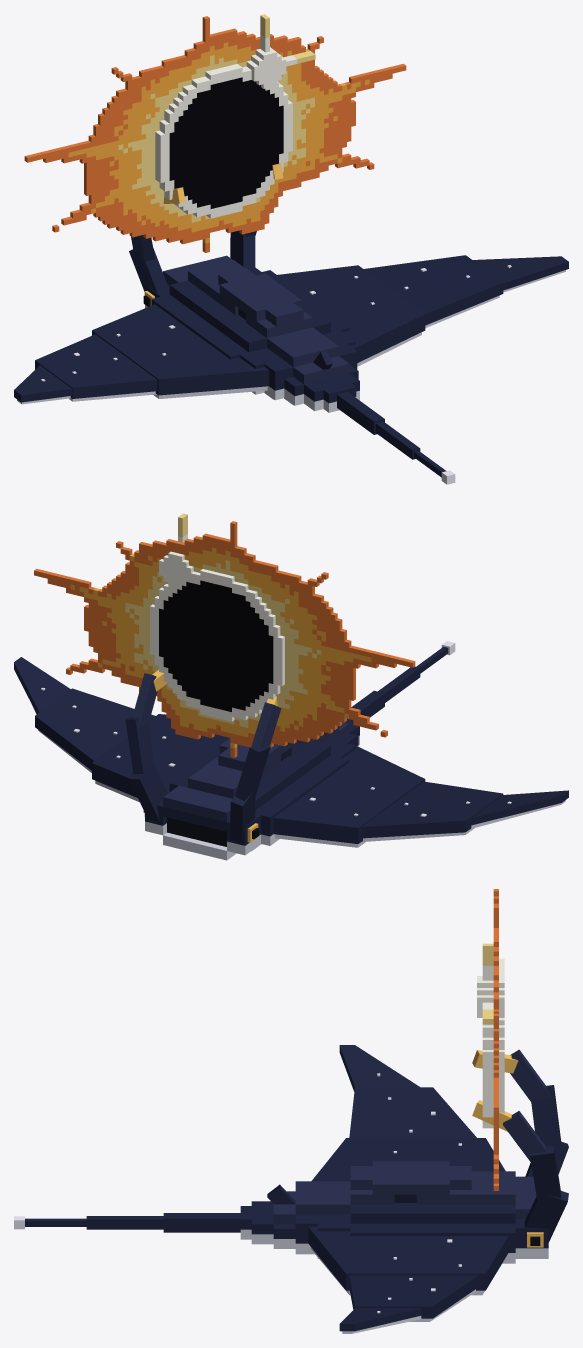
Rendered from Totality.obj.
3 views of the same model, one above another, from view 1: azimuth 30°, elevation 25°; view 2: azimuth 150°, elevation 25°; view 3: azimuth 270°, elevation 25° (orthographic). The views are drawn at different scales.
Visible parts, largest first — view 1: Corona, Body, Eclipse, WingL1, WingR1, WingR2, WingL2, WingR3, WingL3, Tail1, Tail2; view 2: Corona, Body, Eclipse, WingL1, WingL2, WingR2, WingR1, WingL3, WingR3, Tail2, Tail1; view 3: Body, WingR1, WingL2, WingL1, WingR2, Eclipse, WingL3, Corona, Tail1, WingR3, Tail2, Tail3.
Part boxes in pixels (bbox=[...]): Corona: bbox=[24, 16, 406, 252]; Body: bbox=[129, 163, 359, 412]; Eclipse: bbox=[155, 14, 315, 218]; WingL1: bbox=[92, 304, 268, 398]; WingR1: bbox=[277, 265, 425, 366]; WingR2: bbox=[364, 255, 503, 327]; WingL2: bbox=[35, 334, 157, 401]; WingR3: bbox=[473, 256, 568, 292]; WingL3: bbox=[14, 365, 71, 404]; Tail1: bbox=[337, 392, 384, 434]; Tail2: bbox=[375, 421, 420, 459]; Corona: bbox=[34, 521, 415, 757]; Body: bbox=[125, 670, 359, 860]; Eclipse: bbox=[133, 513, 284, 721]; WingL1: bbox=[273, 743, 425, 847]; WingL2: bbox=[361, 781, 503, 841]; WingR2: bbox=[35, 688, 155, 772]; WingR1: bbox=[92, 714, 222, 802]; WingL3: bbox=[471, 790, 568, 828]; WingR3: bbox=[14, 657, 70, 714]; Tail2: bbox=[378, 666, 420, 702]; Tail1: bbox=[351, 690, 384, 717]; Body: bbox=[240, 1049, 568, 1263]; WingR1: bbox=[308, 1226, 508, 1295]; WingL2: bbox=[349, 1087, 476, 1137]; WingL1: bbox=[311, 1138, 505, 1181]; WingR2: bbox=[349, 1275, 478, 1321]; Eclipse: bbox=[477, 943, 504, 1128]; WingL3: bbox=[339, 1045, 419, 1091]; Corona: bbox=[493, 889, 498, 1190]; Tail1: bbox=[163, 1213, 240, 1232]; WingR3: bbox=[339, 1308, 422, 1333]; Tail2: bbox=[86, 1216, 163, 1229]; Tail3: bbox=[14, 1216, 86, 1229].
Size of the model in its own units: 36 by 19.8 by 30.28.
1 material, 1 textured.
